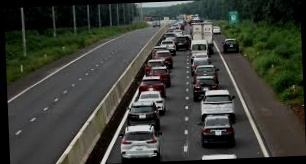Bien-so: (143, 114, 150, 122), (220, 130, 226, 136), (141, 149, 148, 154)
